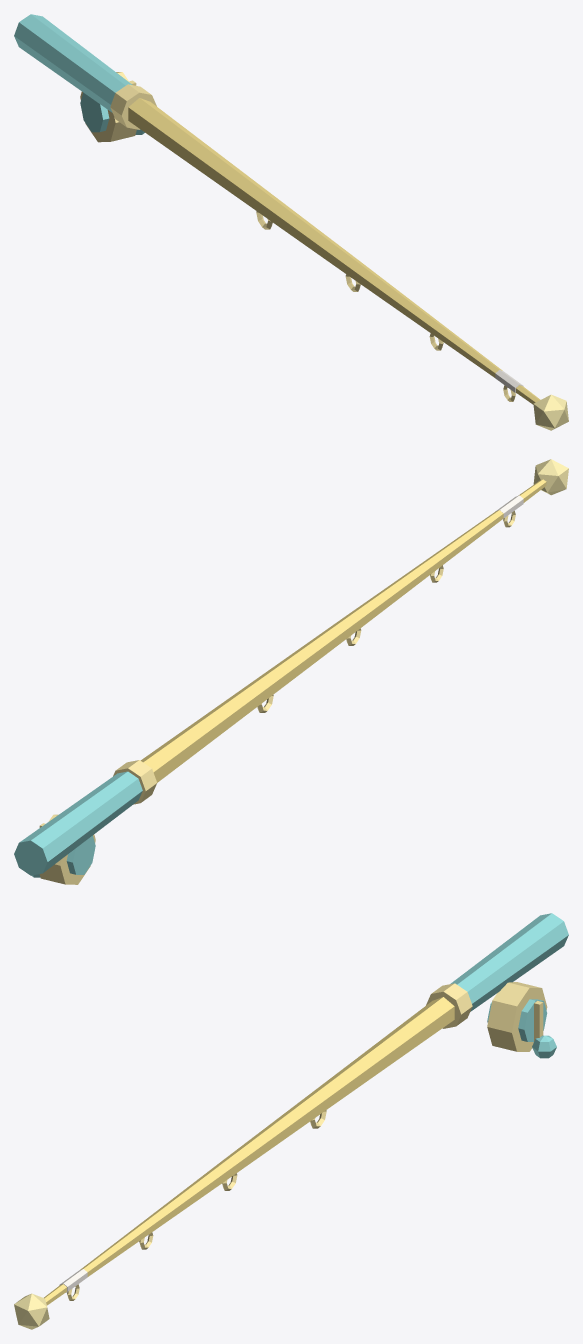
Rendered from Rod_2.fbx.
3 renders of one model, top to bottom at view 1: azimuth 30°, elevation 25°; view 2: azimuth 150°, elevation 25°; view 3: azimuth 330°, elevation 25°, orthographic.
Visible parts, largest first — view 1: Rod_A, Handle, Rod_B, Orb, Ferrule, Reel_Spool, Reel_Body; view 2: Rod_A, Handle, Rod_B, Orb, Ferrule, Reel_Spool, Reel_Body; view 3: Rod_A, Handle, Rod_B, Reel_Body, Ferrule, Orb, Reel_Spool.
Part boxes in pixels (x1=…): Rod_A: x1=128, y1=98, x2=359, y2=273; Handle: x1=14, y1=14, x2=132, y2=112; Rod_B: x1=346, y1=259, x2=540, y2=404; Orb: x1=533, y1=394, x2=568, y2=430; Ferrule: x1=110, y1=84, x2=156, y2=129; Reel_Spool: x1=80, y1=92, x2=109, y2=132; Reel_Body: x1=80, y1=72, x2=136, y2=142; Rod_A: x1=140, y1=613, x2=360, y2=782; Handle: x1=14, y1=771, x2=142, y2=875; Rod_B: x1=347, y1=479, x2=546, y2=627; Orb: x1=533, y1=459, x2=568, y2=495; Ferrule: x1=113, y1=760, x2=156, y2=804; Reel_Spool: x1=66, y1=835, x2=95, y2=874; Reel_Body: x1=39, y1=814, x2=95, y2=884; Rod_A: x1=223, y1=997, x2=454, y2=1172; Handle: x1=450, y1=913, x2=568, y2=1011; Rod_B: x1=44, y1=1158, x2=236, y2=1305; Reel_Body: x1=487, y1=982, x2=547, y2=1051; Ferrule: x1=426, y1=983, x2=472, y2=1028; Orb: x1=14, y1=1293, x2=49, y2=1329; Reel_Spool: x1=487, y1=999, x2=547, y2=1042.
Size of the model in its own units: 0.1551 by 0.178 by 1.85.
